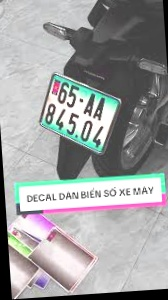Bien-so: (37, 76, 122, 164)
